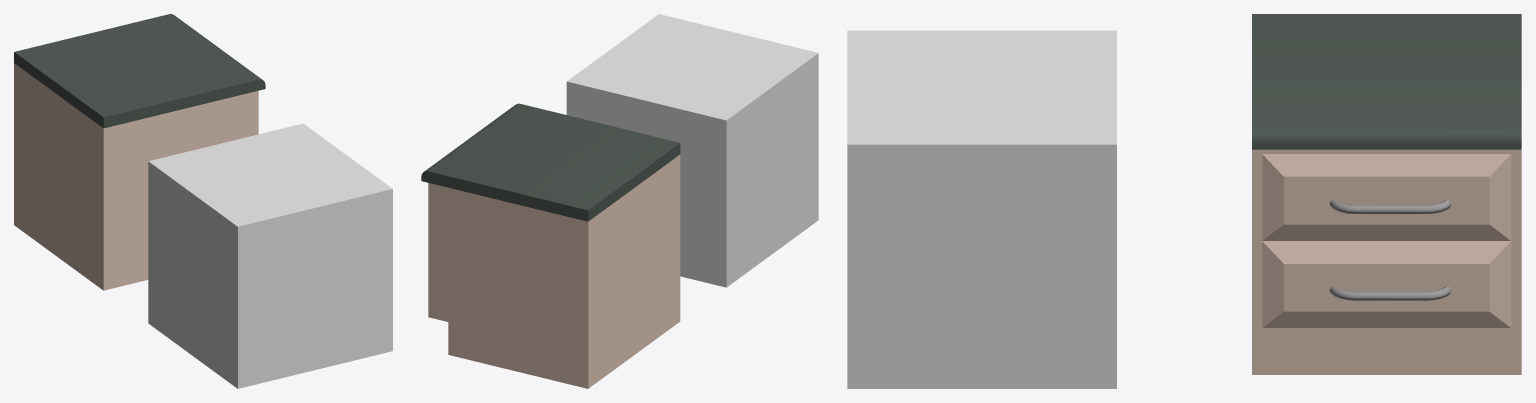
Rendered from AanrechtKastje.fbx.
3 views of the same model, side by side, from view 1: azimuth 30°, elevation 25°; view 2: azimuth 150°, elevation 25°; view 3: azimuth 270°, elevation 25° (orthographic). The views are drawn at different scales.
Visible parts, largest first — view 1: Cube.005, Cube, Cube.004; view 2: Cube, Cube.005, Cube.004; view 3: Cube.005, Cube.004, Cube.001, Cube.002, Cube, Cube.011, Cube.003.
Part boxes in pixels (<box>): Cube.005: <box>148,123,392,388</box>; Cube: <box>14,63,258,290</box>; Cube.004: <box>14,14,265,128</box>; Cube: <box>428,154,680,388</box>; Cube.005: <box>566,14,818,287</box>; Cube.004: <box>421,103,680,221</box>; Cube.005: <box>847,30,1116,388</box>; Cube.004: <box>1252,14,1521,149</box>; Cube.001: <box>1262,154,1511,240</box>; Cube.002: <box>1262,241,1511,327</box>; Cube: <box>1252,149,1521,374</box>; Cube.011: <box>1329,286,1451,300</box>; Cube.003: <box>1329,199,1451,213</box>.
Size of the model in its own units: 221 by 214 by 500.
